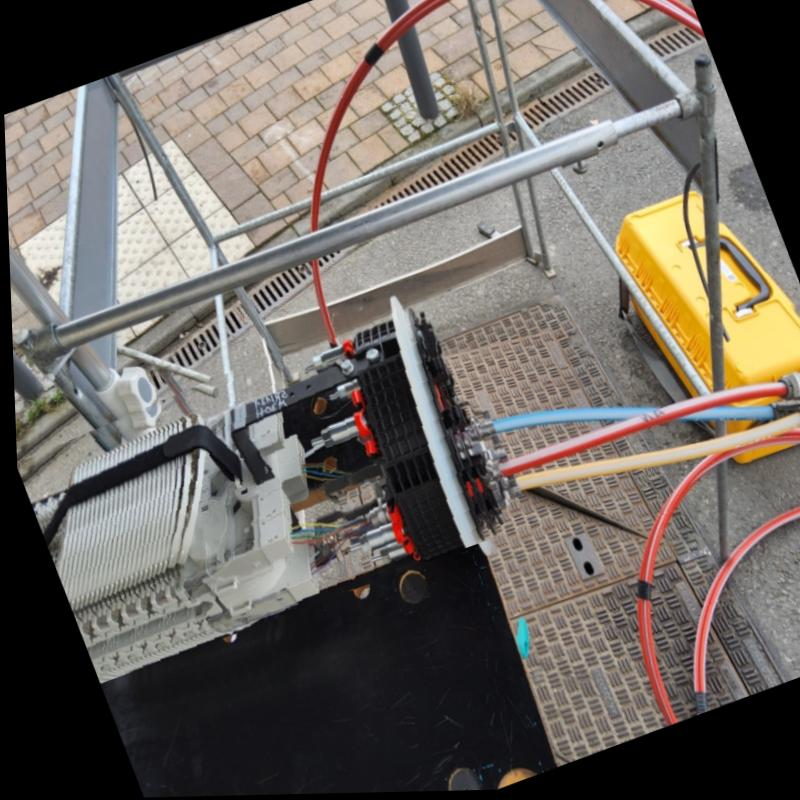NT-Muffen: (9, 292, 506, 685)
